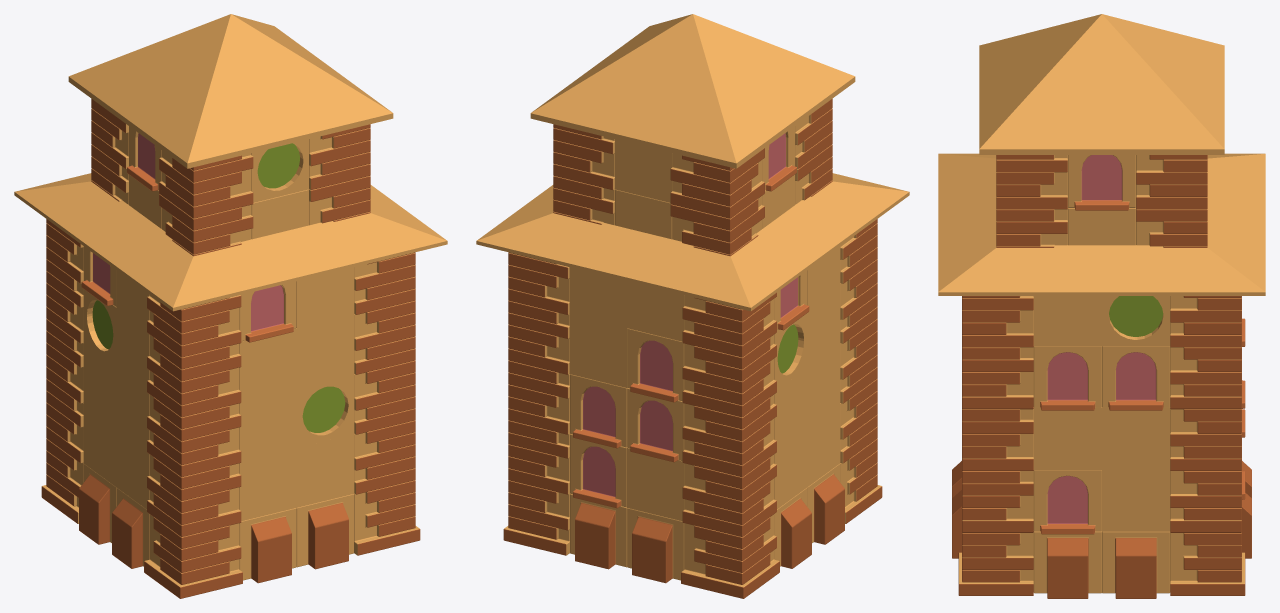
The model's file is house v3.002.fbx.
3 renders of one model, left to right at view 1: azimuth 30°, elevation 25°; view 2: azimuth 150°, elevation 25°; view 3: azimuth 270°, elevation 25°, orthographic. The views are drawn at different scales.
Parts seen in each view (by area): view 1: House; view 2: House; view 3: House.
Part boxes in pixels (x1,y1,x2,y2): House: (14, 14, 447, 598); House: (476, 14, 909, 598); House: (938, 14, 1265, 598).
Size of the model in its own units: 480 by 844 by 480.
